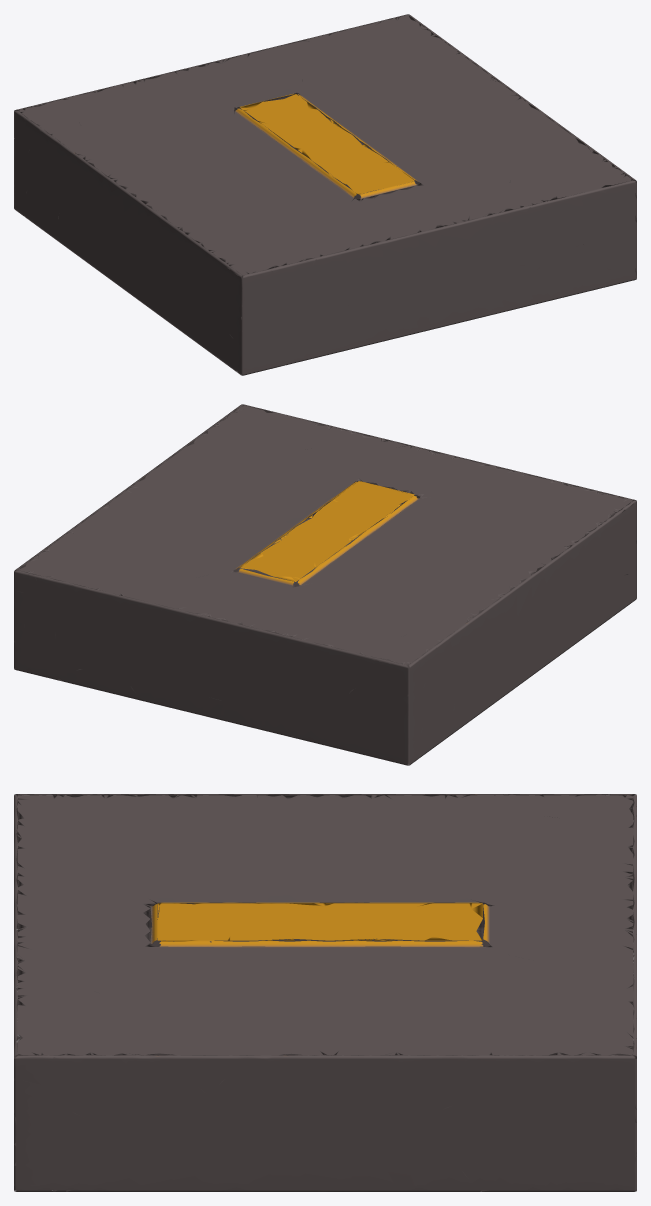
Rendered from Road-1.glb.
The picture shows the model from 3 angles, top to bottom: view 1: azimuth 30°, elevation 25°; view 2: azimuth 150°, elevation 25°; view 3: azimuth 270°, elevation 25°; orthographic projection. The views are drawn at different scales.
Visible parts, largest first — view 1: Area (3); view 2: Area (3); view 3: Area (3).
Boxes of the visible parts, x1,y1,x2,y2 form: Area (3): [14, 14, 636, 375]; Area (3): [14, 404, 636, 765]; Area (3): [14, 794, 636, 1191].
Bounding box in the file's own units: 2.08 × 0.5121 × 2.08.
1 material, 1 textured.
